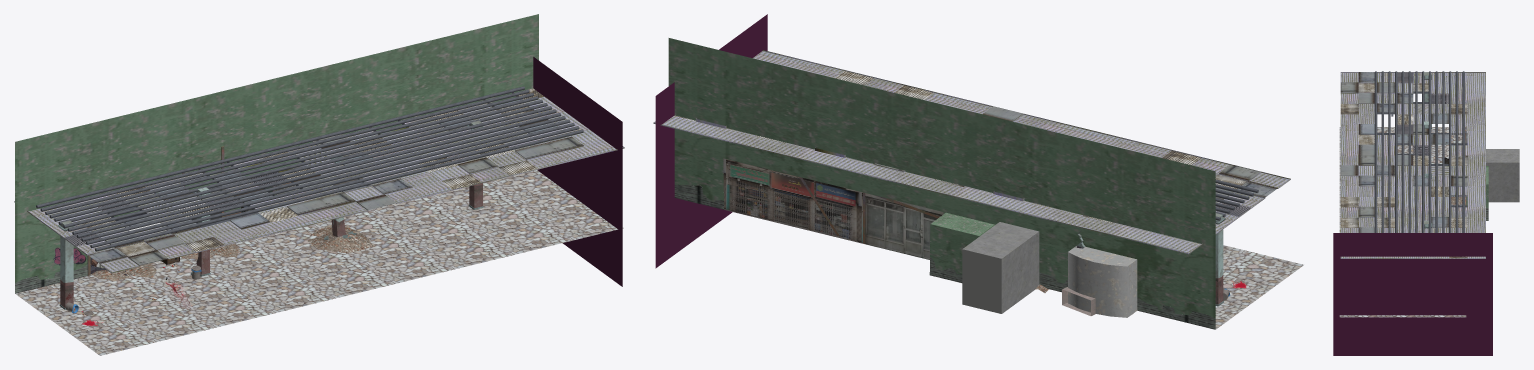
Rendered from m_lm-mall.glb.
The picture shows the model from 3 angles, left to right: view 1: azimuth 30°, elevation 25°; view 2: azimuth 150°, elevation 25°; view 3: azimuth 270°, elevation 25°; orthographic projection. The views are drawn at different scales.
Visible parts, largest first — view 1: floor&walls_walls_0, floor&walls_floor_0, Cylinder.026_pipes_0, celling_celling_1_0, Plane_1212_0, celling_celling_2_0, celling_celling_3_0, Plane.012_trash_1_0, Cube.016_red_paindted_coloumn_0, Cube.016_coloumn_0, floor&walls_bricks_0, celling_lattice_celling_0; view 2: floor&walls_walls_0, celling_celling_1_0, floor&walls_ashop_2_bask_0, Plane_1212_0, floor&walls_wc_walls_0, Cube.001_shop_0, floor&walls_shop_2_basck_0, floor&walls_floor_0, floor&walls_bricks_0, celling_celling_3_0, celling_celling_2_0, Cylinder.026_pipes_0 (+1 smaller); view 3: Plane_1212_0, celling_celling_1_0, Cylinder.026_pipes_0, celling_celling_2_0, celling_celling_3_0, floor&walls_wc_walls_0, floor&walls_floor_0, celling_lattice_celling_0, lamp_main_coloumn_inside1.001_0.
Part boxes in pixels (x1,y1,x2,y2): floor&walls_walls_0: [15, 14, 538, 282]; floor&walls_floor_0: [15, 170, 623, 355]; Cylinder.026_pipes_0: [36, 86, 583, 251]; celling_celling_1_0: [14, 92, 624, 273]; Plane_1212_0: [533, 57, 622, 286]; celling_celling_2_0: [87, 116, 583, 265]; celling_celling_3_0: [82, 88, 543, 256]; Plane.012_trash_1_0: [91, 226, 372, 279]; Cube.016_red_paindted_coloumn_0: [60, 183, 482, 307]; Cube.016_coloumn_0: [60, 120, 482, 282]; floor&walls_bricks_0: [15, 264, 87, 293]; celling_lattice_celling_0: [64, 171, 286, 246]; floor&walls_walls_0: [668, 38, 1215, 318]; celling_celling_1_0: [653, 50, 1290, 254]; floor&walls_ashop_2_bask_0: [723, 158, 864, 243]; Plane_1212_0: [655, 14, 767, 268]; floor&walls_wc_walls_0: [962, 222, 1039, 313]; Cube.001_shop_0: [1068, 246, 1137, 317]; floor&walls_shop_2_basck_0: [865, 193, 943, 259]; floor&walls_floor_0: [1081, 245, 1303, 329]; floor&walls_bricks_0: [674, 184, 1215, 329]; celling_celling_3_0: [674, 71, 1246, 223]; celling_celling_2_0: [875, 106, 1277, 199]; Cylinder.026_pipes_0: [1215, 179, 1258, 223]; Plane_1212_0: [1333, 233, 1492, 355]; celling_celling_1_0: [1340, 72, 1485, 258]; Cylinder.026_pipes_0: [1374, 71, 1464, 232]; celling_celling_2_0: [1340, 72, 1467, 232]; celling_celling_3_0: [1340, 83, 1467, 258]; floor&walls_wc_walls_0: [1486, 149, 1519, 202]; floor&walls_floor_0: [1339, 127, 1466, 317]; celling_lattice_celling_0: [1397, 73, 1448, 155]; lamp_main_coloumn_inside1.001_0: [1377, 91, 1467, 207].
Size of the model in its own units: 12329 by 4818 by 5085.
Materials: 87 (70 with a texture image).
